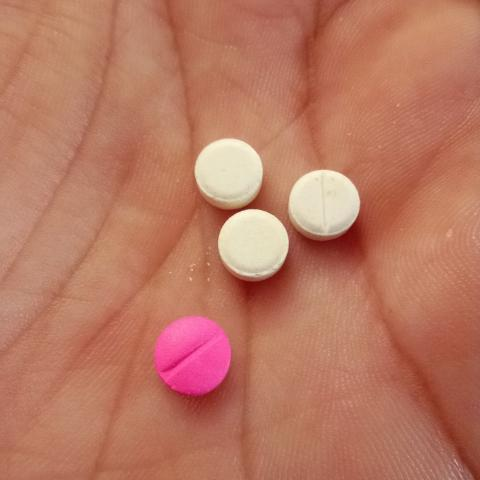Pill: (214, 202, 303, 296), (282, 160, 379, 244), (185, 124, 278, 207)
